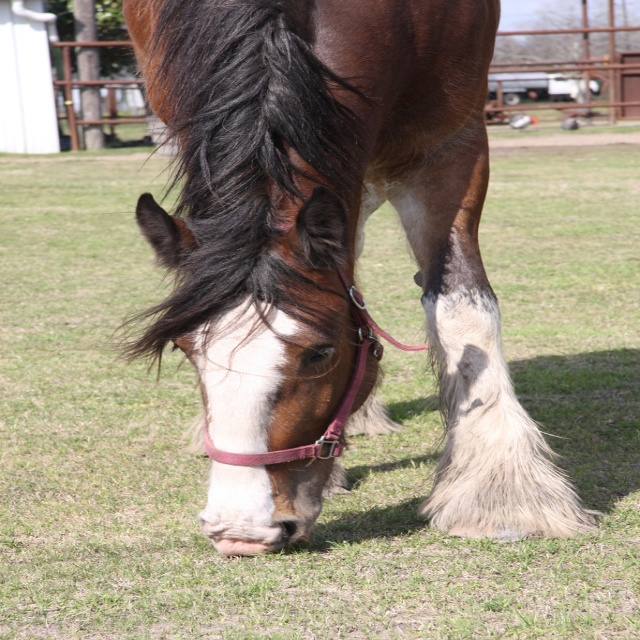Horse: (100, 0, 607, 554)
